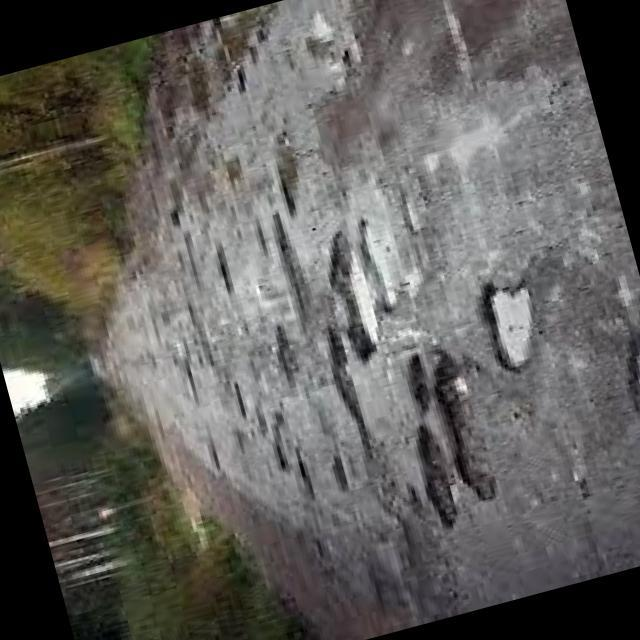pothole: (427, 350, 502, 508), (467, 258, 557, 388), (322, 234, 389, 366), (404, 423, 474, 541), (322, 322, 378, 465), (263, 209, 322, 343), (352, 214, 406, 324), (262, 137, 314, 224), (274, 330, 308, 396), (616, 332, 640, 424), (403, 355, 437, 416), (266, 413, 298, 475), (326, 444, 358, 500), (290, 448, 320, 500), (214, 251, 238, 300), (228, 378, 253, 422), (204, 435, 227, 474)
